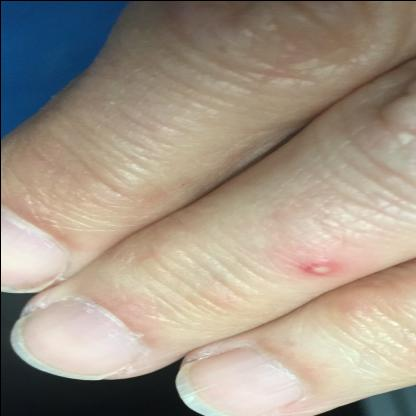Fire ant: (293, 254, 345, 282)
